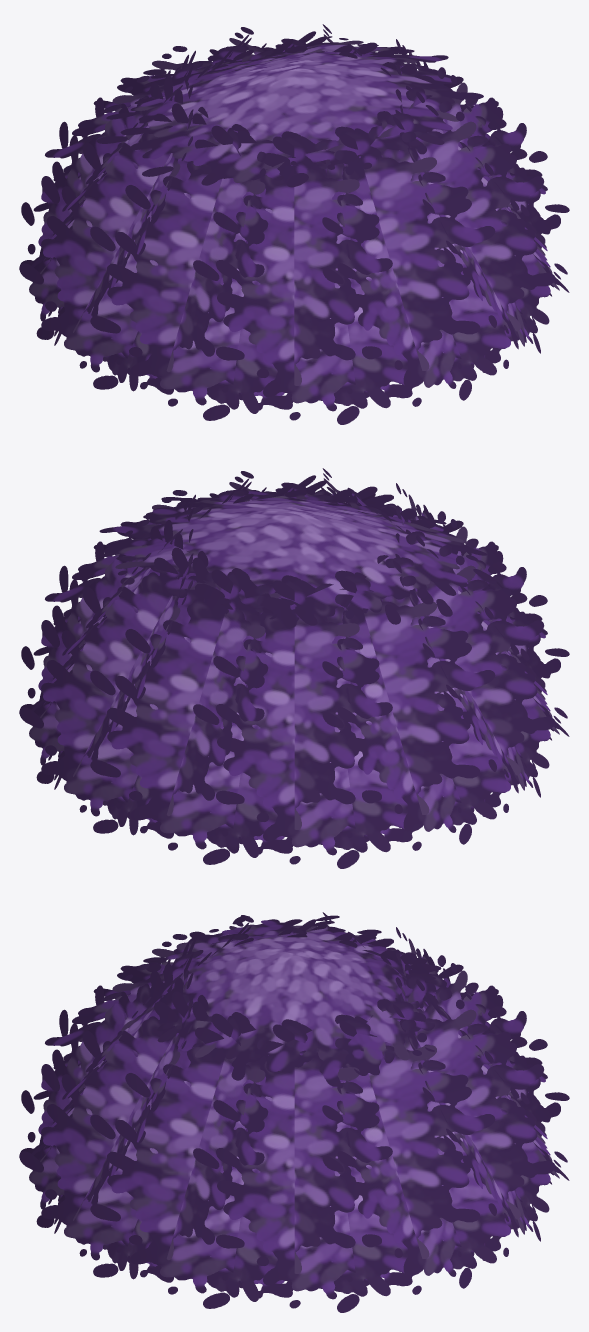
File: hp_bush041.glb
The picture shows the model from 3 angles, top to bottom: view 1: azimuth 30°, elevation 25°; view 2: azimuth 150°, elevation 25°; view 3: azimuth 270°, elevation 25°; orthographic projection.
Visible parts, largest first — view 1: _MeshInstance3D_5; view 2: _MeshInstance3D_5; view 3: _MeshInstance3D_5.
Part boxes in pixels (box(x1,y1,x2,y2)): _MeshInstance3D_5: box(19, 24, 569, 424); _MeshInstance3D_5: box(19, 468, 569, 868); _MeshInstance3D_5: box(19, 912, 569, 1312).
Size of the model in its own units: 13.21 by 6.45 by 13.21.
1 material, 1 textured.
